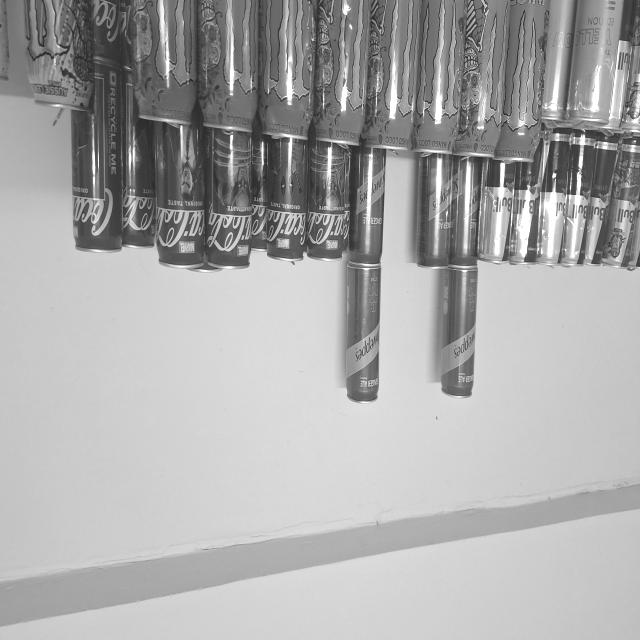Coca Cola: (94, 0, 132, 68)
Coca Cola - Marvel: (156, 132, 204, 262), (208, 130, 252, 270), (264, 143, 306, 259), (122, 126, 156, 245), (310, 144, 344, 262)
Monster Aussie Lemonade: (25, 0, 93, 116), (68, 107, 120, 251)
Monster Mango Loco: (499, 0, 547, 163), (455, 0, 505, 150), (365, 0, 416, 146), (132, 0, 194, 120), (258, 0, 312, 136), (260, 0, 312, 141), (200, 0, 256, 130), (312, 0, 362, 144), (411, 0, 458, 153)
Redbul: (0, 0, 397, 154), (532, 125, 568, 263), (561, 127, 595, 260), (583, 136, 617, 261), (480, 162, 511, 266), (514, 161, 540, 267), (616, 20, 632, 116)
Redbull DanceYourStyle: (608, 145, 640, 262), (628, 10, 638, 128)
Redbull Yellow Edition: (572, 0, 613, 124), (547, 0, 571, 113)
Schweppes: (345, 264, 380, 402), (442, 271, 480, 398), (352, 153, 388, 264), (416, 158, 448, 266), (452, 158, 478, 257)
